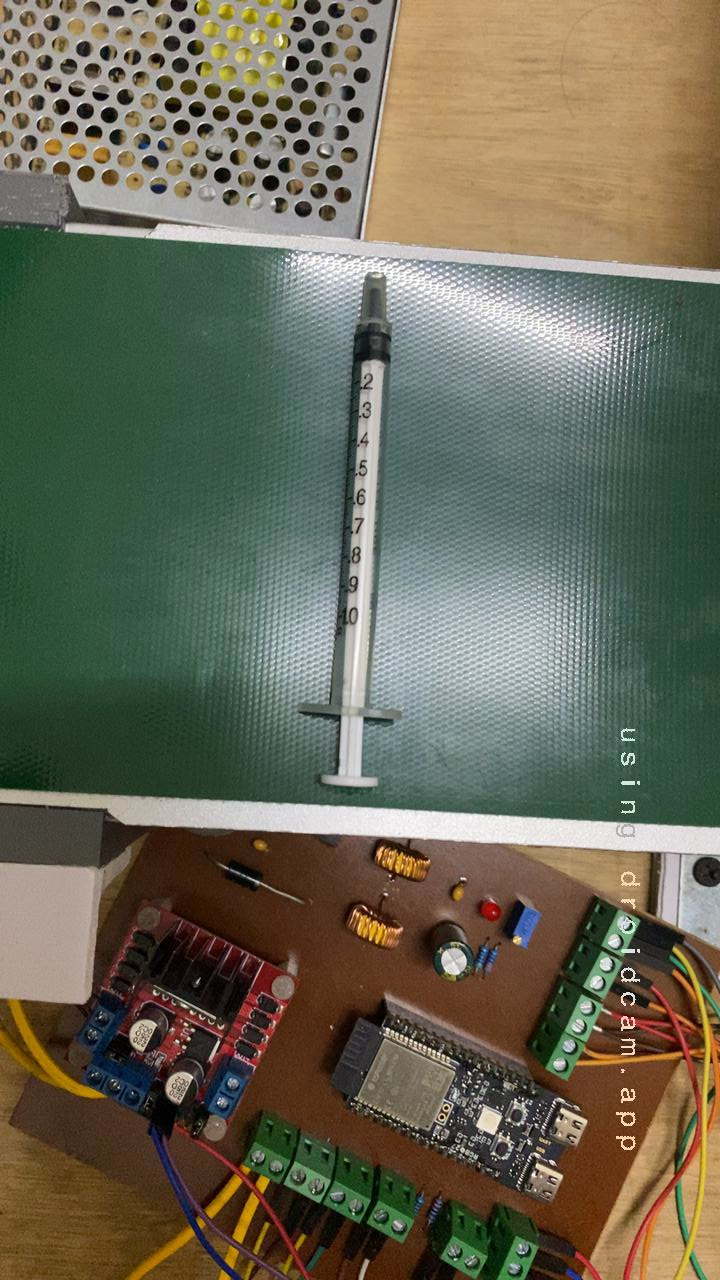syringe: (230, 269, 489, 814)
